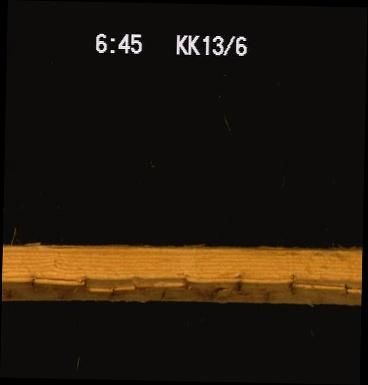wave: (1, 243, 361, 299)
